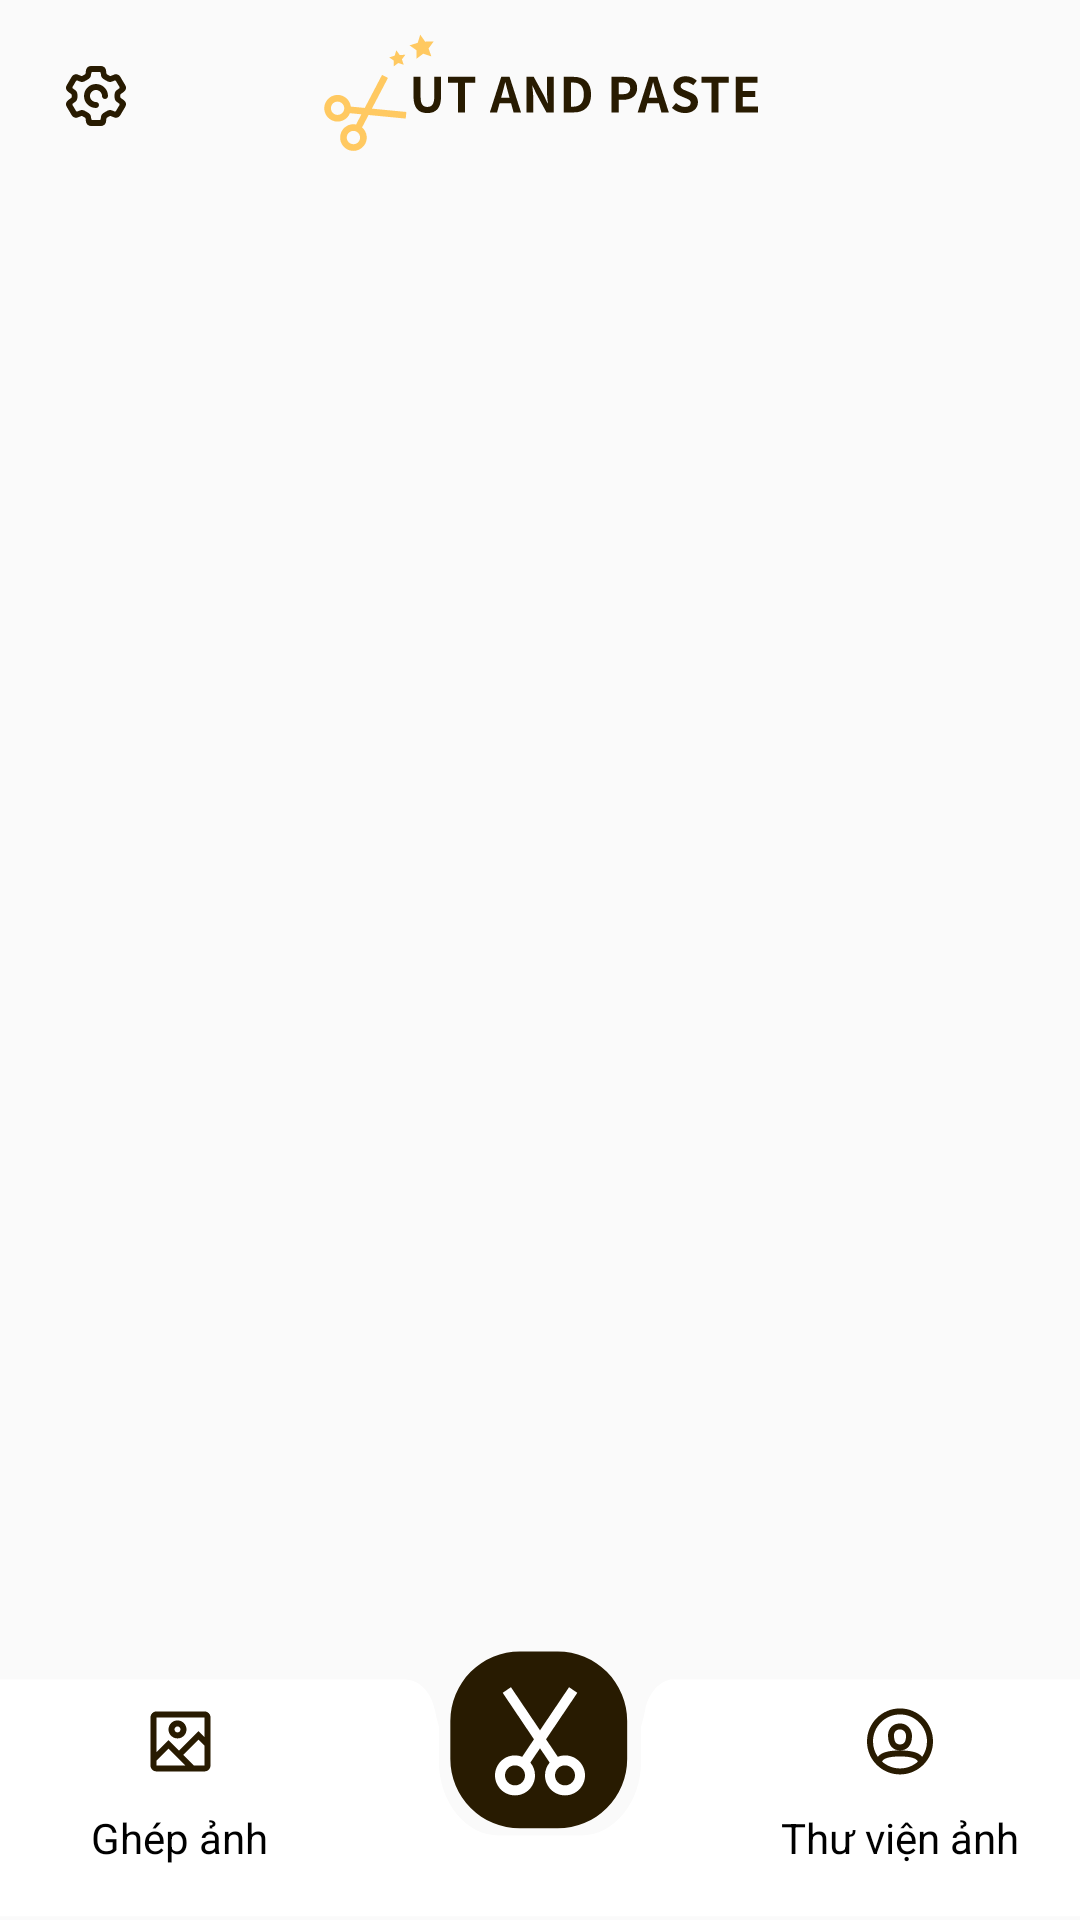

Where to tap for icons on this 1080*1920 app screen, as (x,y):
cut: (539,1740)
setting: (96,96)
user: (900,1741)
